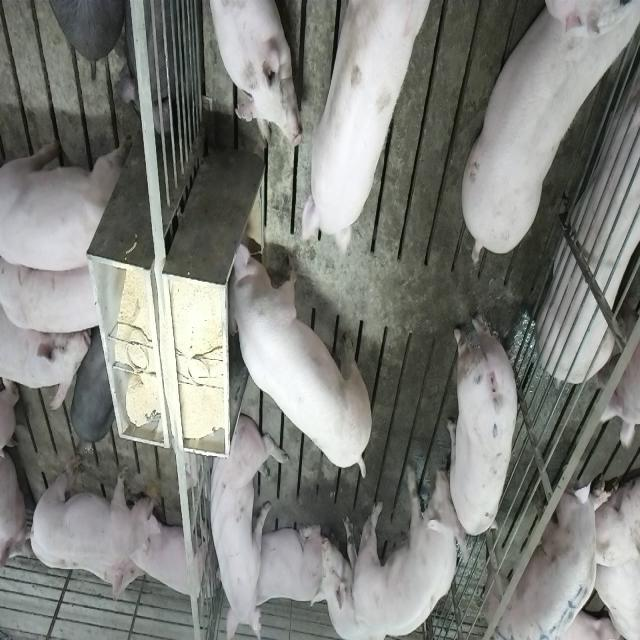Feeding: (300, 0, 450, 251), (219, 234, 369, 479)
Sitting: (204, 407, 284, 636)
Standing: (456, 5, 634, 268), (488, 454, 614, 640), (355, 448, 463, 638), (2, 128, 126, 274), (446, 304, 520, 546), (27, 456, 157, 562), (0, 285, 89, 411), (0, 248, 105, 334)
Sternal_lying: (538, 55, 640, 453), (203, 0, 299, 148), (247, 518, 333, 608), (133, 507, 210, 602)
